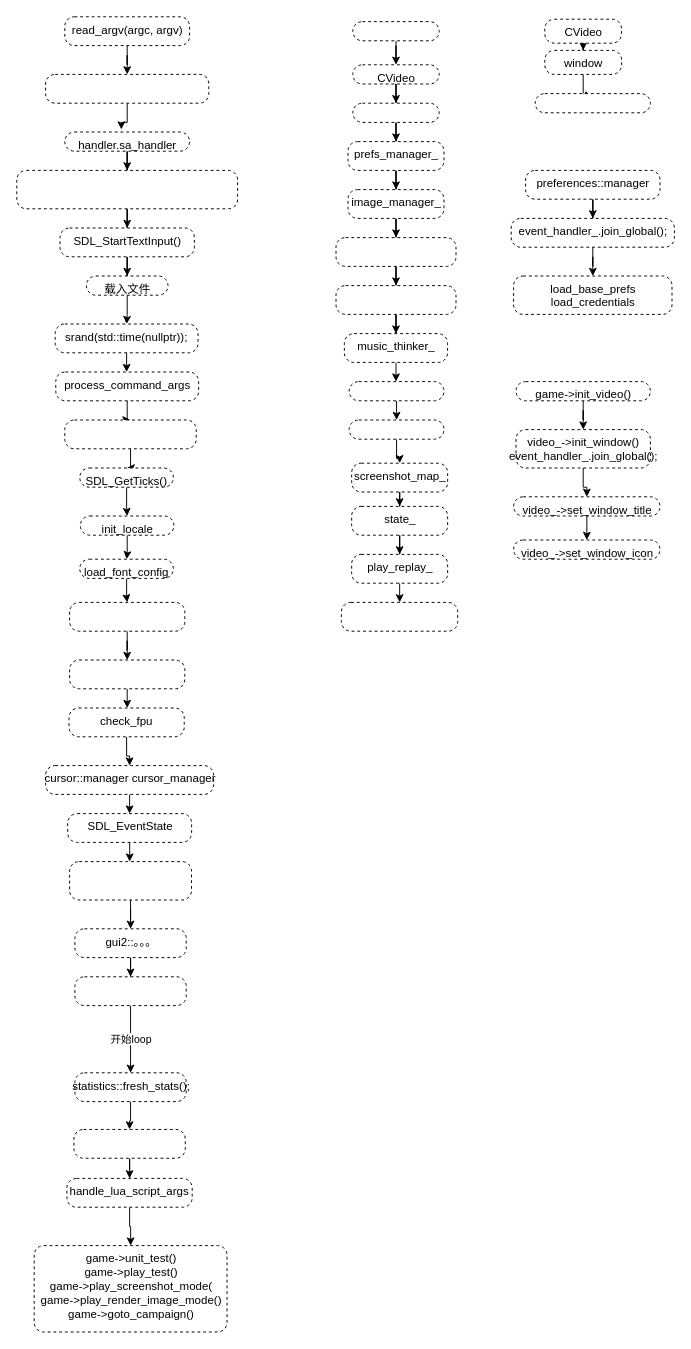
The diagram is 691 pixels wide and 1349 high, and some of its shapes have lost their labels. The box of each missing label's shape, as (x1, y1, x2, y2) in pixels:
event_context std::deque<context> event_contexts: (16, 169, 238, 209)
font_manager_: (352, 102, 439, 122)
game = game_launcher: (64, 419, 196, 449)
game->init_language: (69, 601, 185, 631)
game->init_video: (69, 659, 185, 689)
game_launcher: (352, 21, 439, 41)
gui2::init gui2::event::manager: (69, 861, 192, 900)
hotkey_manager_: (335, 285, 456, 314)
jump_to_campaign_: (340, 601, 458, 631)
main_event_context_: (335, 237, 456, 266)
music_muter_: (348, 381, 444, 401)
plugins_manager: (74, 976, 186, 1006)
SDL_Init(SDL_INIT_TIMER): (45, 73, 209, 103)
SDL_InitSubSystem: (534, 93, 650, 113)
test_scenarios_: (348, 419, 444, 439)
检查是否已经加载数据: (73, 1128, 185, 1158)
